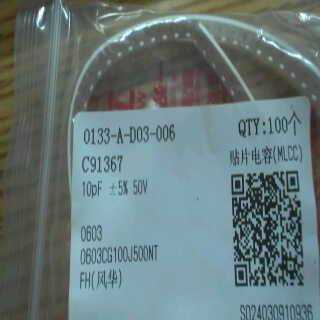10pF: (79, 177, 108, 201)
